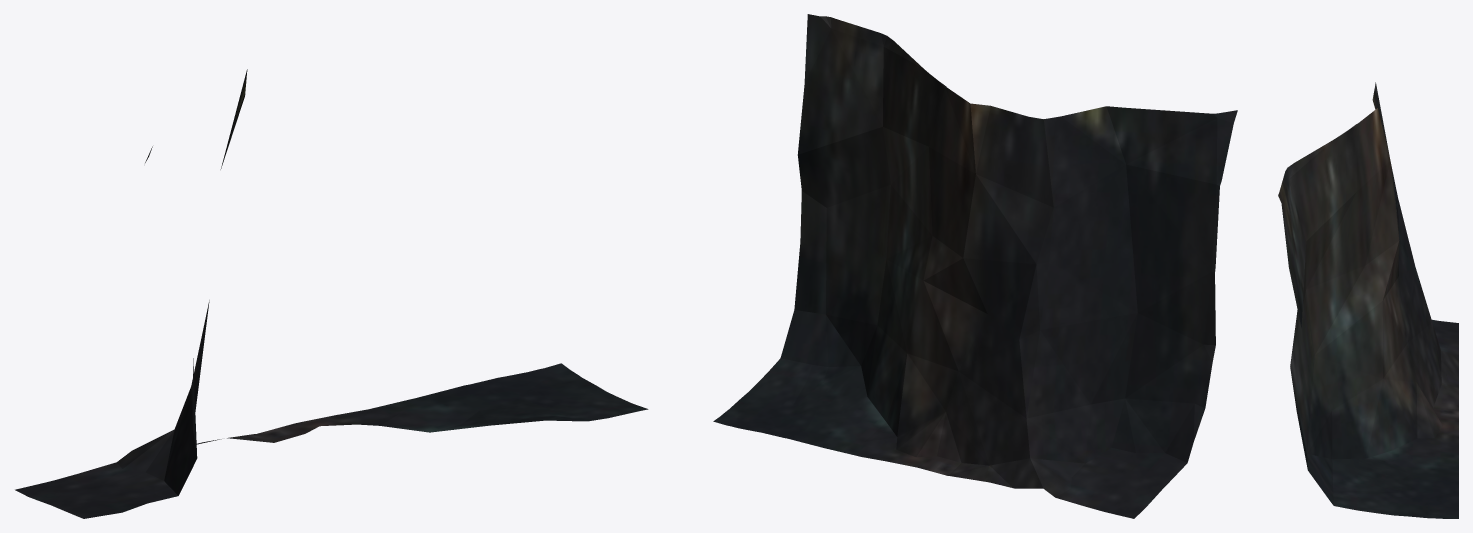
3 renders of one model, left to right at view 1: azimuth 30°, elevation 25°; view 2: azimuth 150°, elevation 25°; view 3: azimuth 270°, elevation 25°, orthographic. The views are drawn at different scales.
Bounding box in the file's own units: 52.22 × 40.19 × 22.3.
2 materials, 2 textured.
